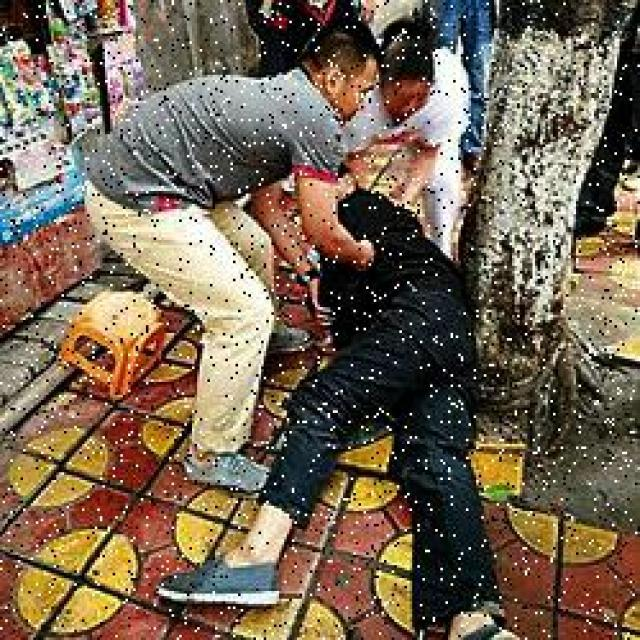fall: (256, 170, 502, 630)
